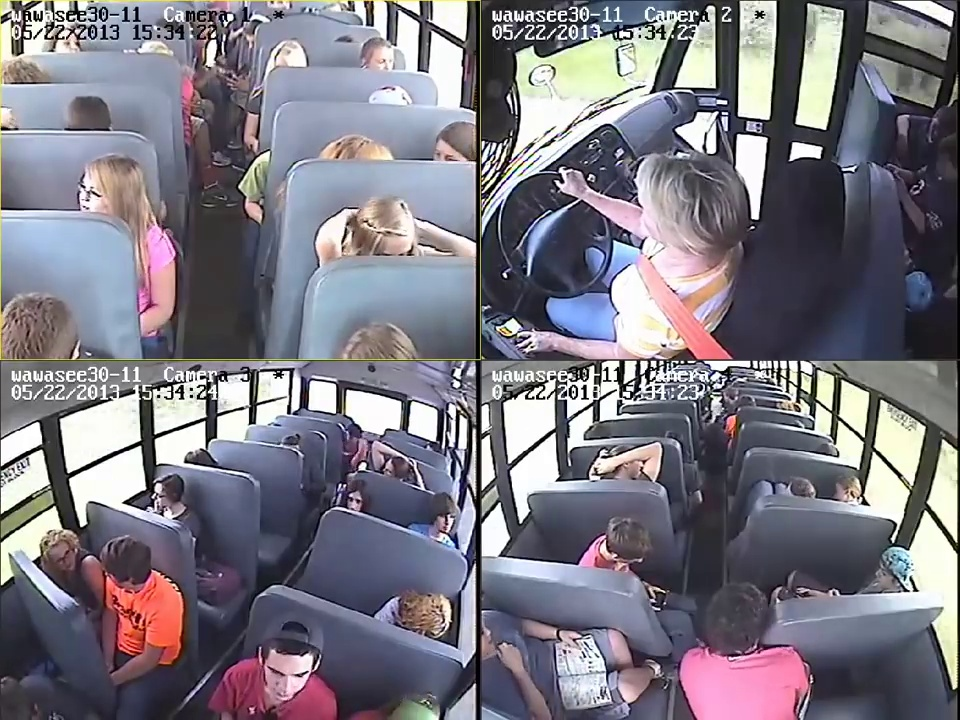face: (269, 648, 306, 709), (74, 167, 112, 215), (47, 547, 77, 573), (150, 482, 168, 511), (437, 506, 456, 533), (348, 491, 362, 512)
